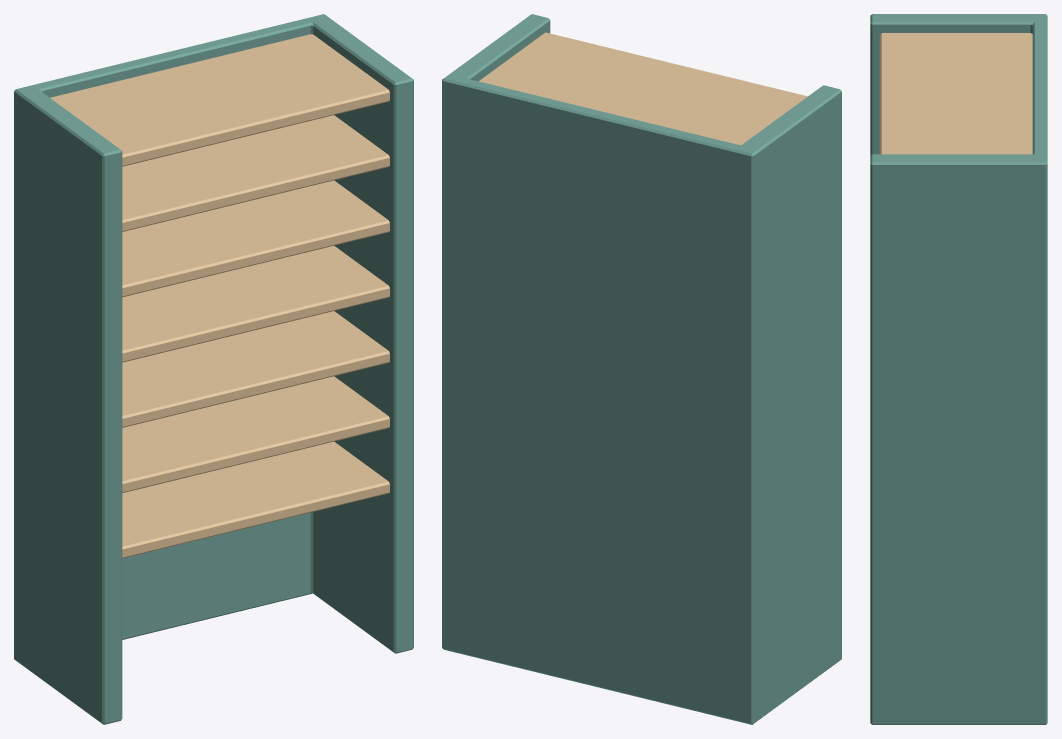
File: cupboard.glb
3 views of the same model, side by side, from view 1: azimuth 30°, elevation 25°; view 2: azimuth 150°, elevation 25°; view 3: azimuth 270°, elevation 25° (orthographic).
Parts seen in each view (by area): view 1: cupboard; view 2: cupboard; view 3: cupboard.
Boxes of the visible parts, box(x1,y1,x2,y2) form: cupboard: box(14, 14, 413, 724); cupboard: box(442, 14, 841, 724); cupboard: box(870, 14, 1047, 724).
Size of the model in its own units: 1.4 by 2.45 by 0.7.
